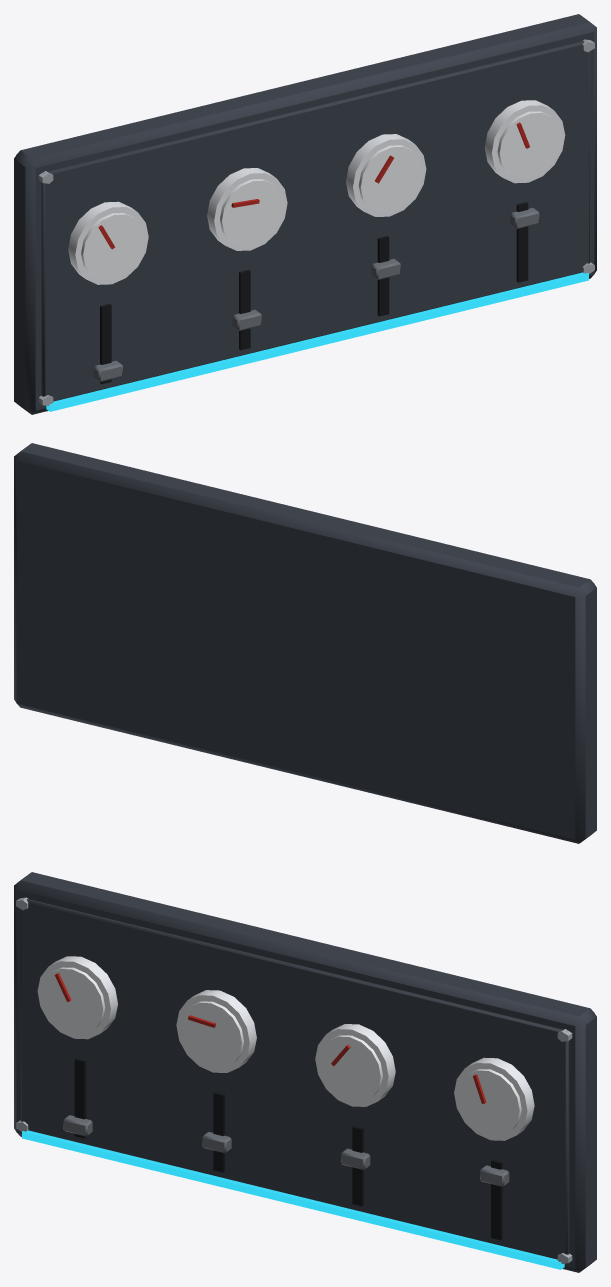
File: controlpanel_dials_and_sliders.glb
3 views of the same model, one above another, from view 1: azimuth 30°, elevation 25°; view 2: azimuth 150°, elevation 25°; view 3: azimuth 330°, elevation 25° (orthographic).
Parts seen in each view (by area): view 1: controlpanel_dials_and_sliders; view 2: controlpanel_dials_and_sliders; view 3: controlpanel_dials_and_sliders.
Part boxes in pixels (x1=…): controlpanel_dials_and_sliders: x1=14, y1=14, x2=596, y2=414; controlpanel_dials_and_sliders: x1=14, y1=443, x2=596, y2=843; controlpanel_dials_and_sliders: x1=14, y1=872, x2=596, y2=1272.
Size of the model in its own units: 0.7 by 0.3 by 0.068.
